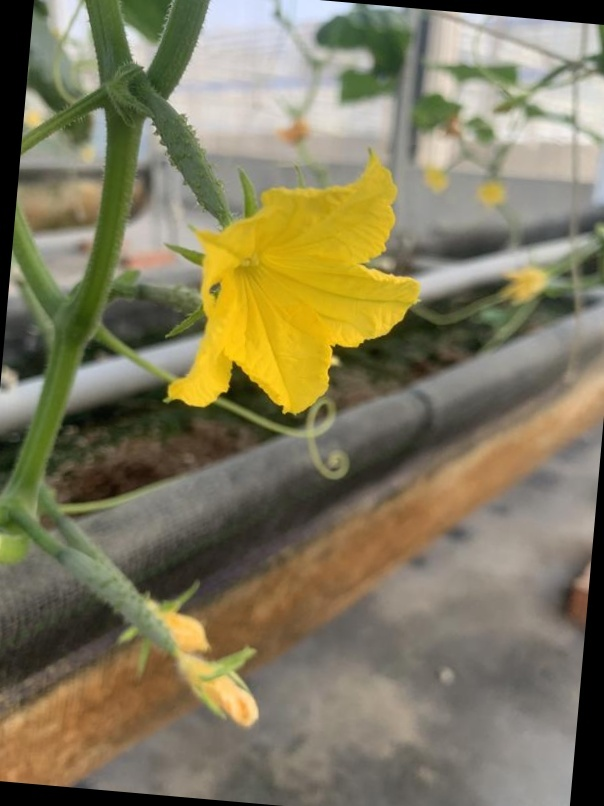bear: (56, 538, 271, 736)
flowering: (98, 91, 424, 427)
